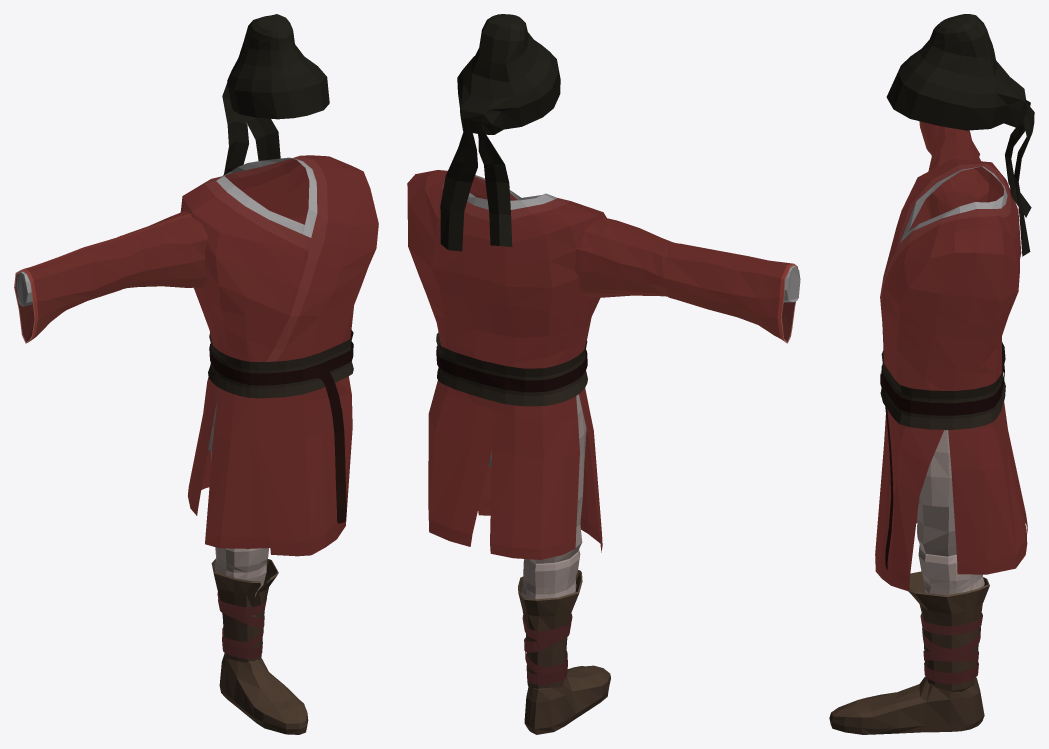
The model's file is qingDynastyTrainingGear.glb.
3 renders of one model, left to right at view 1: azimuth 30°, elevation 25°; view 2: azimuth 150°, elevation 25°; view 3: azimuth 270°, elevation 25°, orthographic. The views are drawn at different scales.
Parts seen in each view (by area): view 1: qingDynastyTrainingGearBody, qingDynastyTrainingGearHat, qingDynastyTrainingGearSleeveLowerArm, qingDynastyTrainingGearPantsLowerLeg, qingDynastyTrainingGearSleeveUpperArm, qingDynastyTrainingGearBoot; view 2: qingDynastyTrainingGearBody, qingDynastyTrainingGearHat, qingDynastyTrainingGearSleeveLowerArm, qingDynastyTrainingGearPantsLowerLeg, qingDynastyTrainingGearSleeveUpperArm, qingDynastyTrainingGearBoot, qingDynastyTrainingGearPantsUpperLeg; view 3: qingDynastyTrainingGearBody, qingDynastyTrainingGearHat, qingDynastyTrainingGearPantsLowerLeg, qingDynastyTrainingGearBoot, qingDynastyTrainingGearSleeveUpperArm, qingDynastyTrainingGearPantsUpperLeg, qingDynastyTrainingGearSleeveLowerArm.
Part boxes in pixels (x1,y1,x2,y2): qingDynastyTrainingGearBody: [180, 155, 378, 556]; qingDynastyTrainingGearHat: [222, 14, 329, 175]; qingDynastyTrainingGearSleeveLowerArm: [14, 238, 127, 343]; qingDynastyTrainingGearPantsLowerLeg: [211, 547, 278, 662]; qingDynastyTrainingGearSleeveUpperArm: [116, 211, 208, 289]; qingDynastyTrainingGearBoot: [219, 653, 308, 734]; qingDynastyTrainingGearBody: [407, 170, 606, 559]; qingDynastyTrainingGearHat: [440, 14, 560, 251]; qingDynastyTrainingGearSleeveLowerArm: [662, 243, 800, 343]; qingDynastyTrainingGearPantsLowerLeg: [518, 549, 582, 689]; qingDynastyTrainingGearSleeveUpperArm: [575, 217, 678, 297]; qingDynastyTrainingGearBoot: [524, 665, 610, 734]; qingDynastyTrainingGearPantsUpperLeg: [531, 451, 584, 563]; qingDynastyTrainingGearBody: [875, 158, 1027, 591]; qingDynastyTrainingGearHat: [886, 14, 1034, 256]; qingDynastyTrainingGearPantsLowerLeg: [908, 545, 989, 691]; qingDynastyTrainingGearBoot: [829, 676, 984, 734]; qingDynastyTrainingGearSleeveUpperArm: [926, 128, 988, 218]; qingDynastyTrainingGearPantsUpperLeg: [917, 504, 956, 556]; qingDynastyTrainingGearSleeveLowerArm: [919, 121, 979, 156].
Bounding box in the file's own units: 1.15 × 2.07 × 0.5309.
